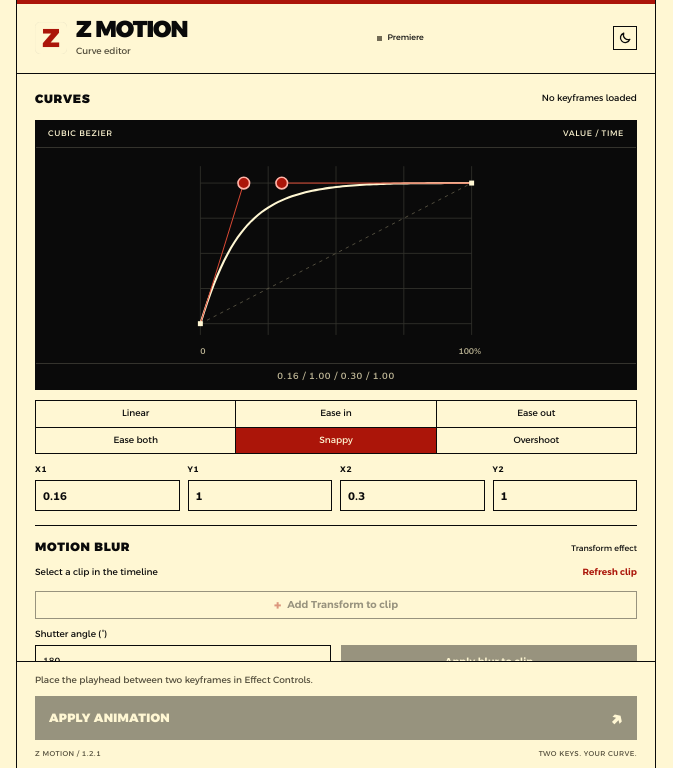
Scenario: silent Premiere reloads › applies the curve when the click that focuses the panel also starts a reload
Hover over the element that starts with "Z Motion" at (336, 384), box [16,0,656,767]
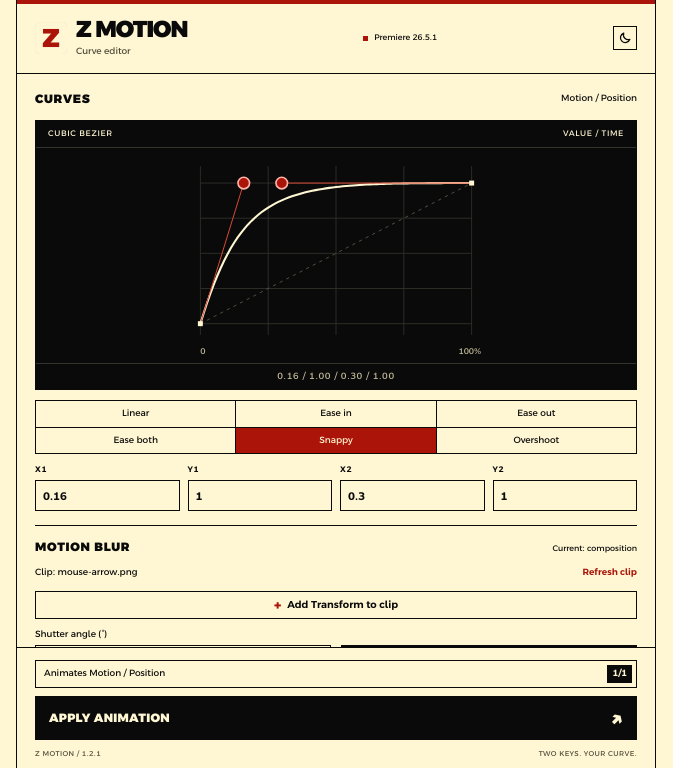
expect the text "Motion / Position" is shown: met, box [561,92,637,106]
Click the button "Apply animation ↗" at (109, 718), box [35,696,637,740]
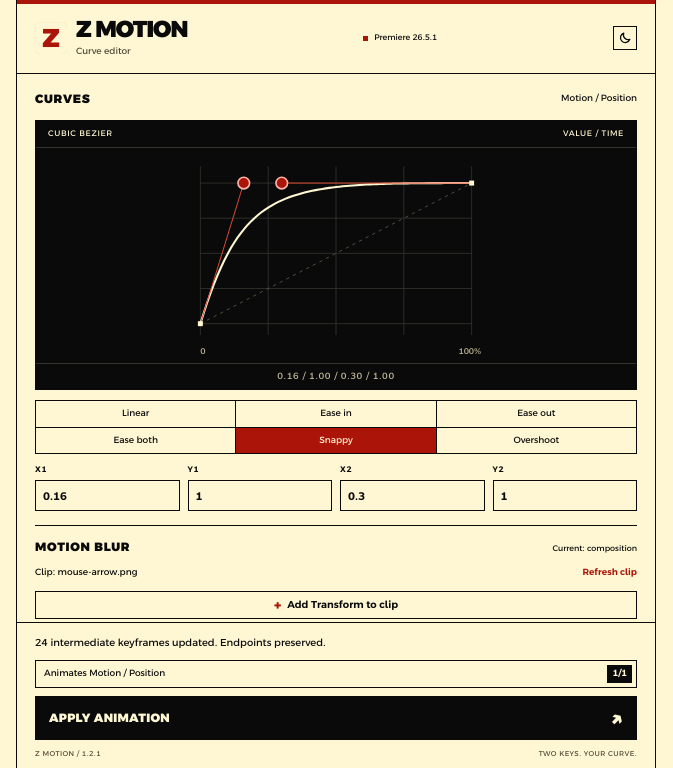
expect the message shows "intermediate keyframes updated": met, box [35,637,326,648]
